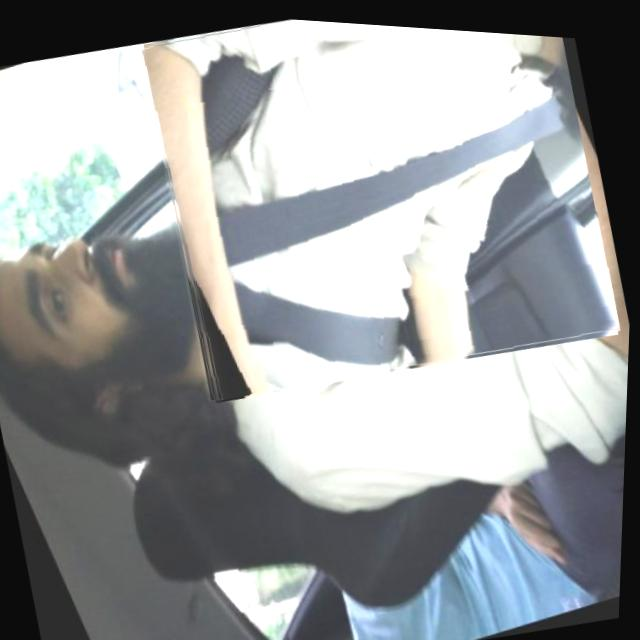seatbelt: (129, 7, 629, 419)
